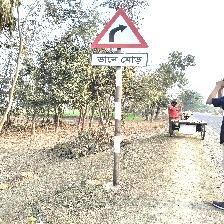Right-turn: (90, 8, 150, 67)
